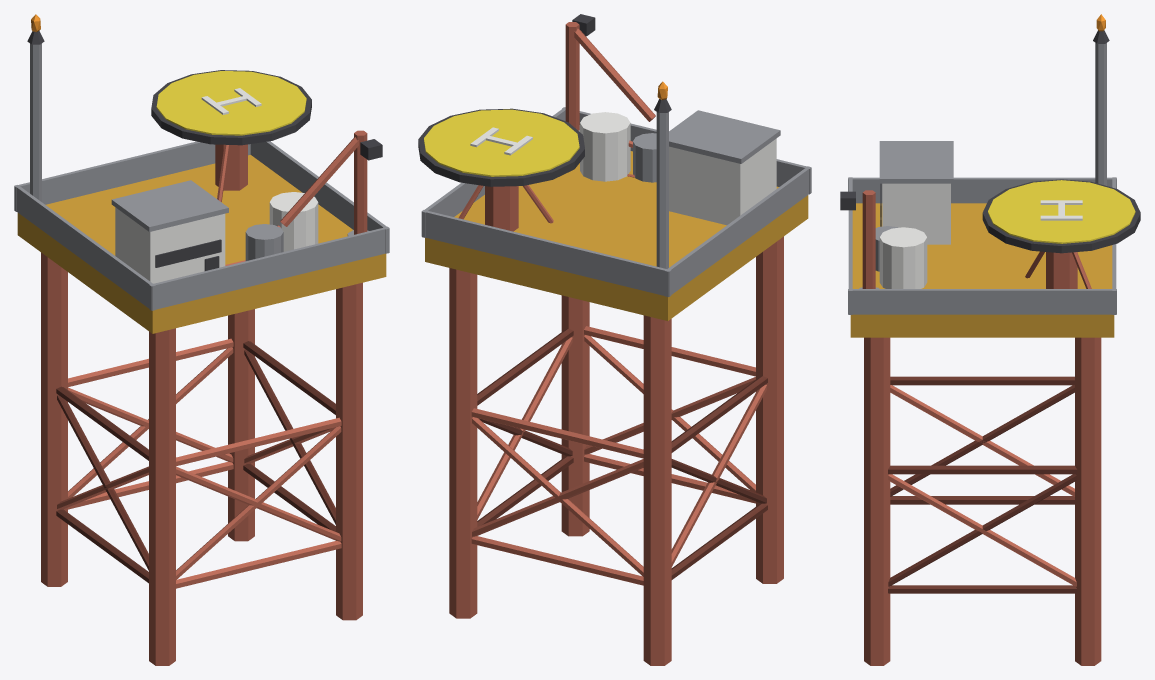
Rendered from lpad.fbx.
3 renders of one model, left to right at view 1: azimuth 30°, elevation 25°; view 2: azimuth 150°, elevation 25°; view 3: azimuth 270°, elevation 25°, orthographic. The views are drawn at different scales.
Visible parts, largest first — view 1: Deck, Leg_0, Leg_1, Leg_2, Helipad_Top, Rail_S, Leg_3, Rail_N, ControlBuilding, Rail_W, ControlBuilding_Roof, Rail_E (+24 smaller); view 2: Deck, Leg_2, Leg_3, Leg_0, Helipad_Top, Rail_N, ControlBuilding, Leg_1, Rail_W, ControlBuilding_Roof, Tank_0, Helipad_Base (+23 smaller); view 3: Deck, Leg_3, Leg_1, Helipad_Top, Rail_E, ControlBuilding, ControlBuilding_Roof, Tank_0, Rail_W, Helipad_Base, Ring_2_1, Ring_2_3 (+10 smaller).
Boxes of the visible parts, x1,y1,x2,y2 form: Deck: (17,155,386,333); Leg_0: (149,328,175,665); Leg_1: (336,282,362,620); Leg_2: (41,252,67,586); Helipad_Top: (156,71,306,135); Rail_S: (149,226,389,310); Leg_3: (228,309,254,541); Rail_N: (14,141,250,211); ControlBuilding: (115,207,225,283); Rail_W: (14,185,155,310); ControlBuilding_Roof: (111,180,228,231); Rail_E: (250,141,389,253); Deck: (425,151,808,320); Leg_2: (643,315,671,665); Leg_3: (449,268,477,618); Leg_0: (756,236,783,583); Helipad_Top: (424,109,579,176); Rail_N: (421,210,671,296); ControlBuilding: (669,138,776,225); Leg_1: (561,295,589,536); Rail_W: (664,166,810,297); ControlBuilding_Roof: (669,110,780,163); Tank_0: (580,112,630,181); Helipad_Base: (418,108,584,186); Deck: (850,203,1114,337); Leg_3: (1075,337,1101,665); Leg_1: (864,337,890,665); Helipad_Top: (988,180,1135,243); Rail_E: (848,289,1116,314); ControlBuilding: (882,183,950,244); ControlBuilding_Roof: (879,141,953,183); Tank_0: (879,227,927,288); Rail_W: (848,177,1116,203); Helipad_Base: (982,179,1140,253); Ring_2_1: (888,465,1077,474); Ring_2_3: (890,376,1074,385).
Bounding box in the file's own units: 1110 × 2312 × 1140.
